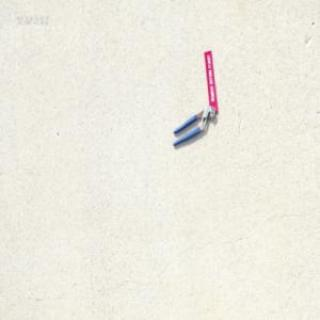LuggageTagtrack_idkeyframe: (203, 48, 217, 112)
Pliertrack_idkeyframe: (170, 103, 215, 146)
